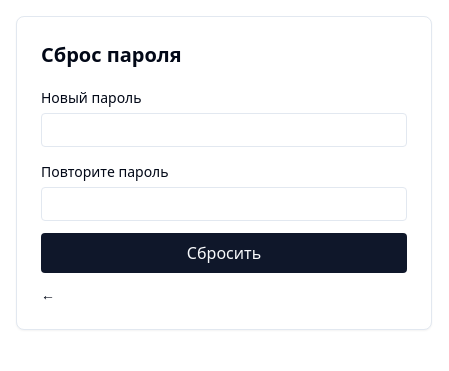
Test: ResetPasswordPage › shows mismatch error
The image size is (449, 371).
In the password field labelled "Новый пароль": (224, 130) [41,113,407,147], type "12345678"
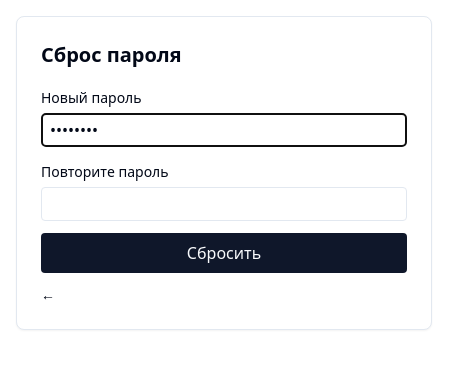
In the password field labelled "Повторите пароль": (224, 204) [41,187,407,221], type "87654321"
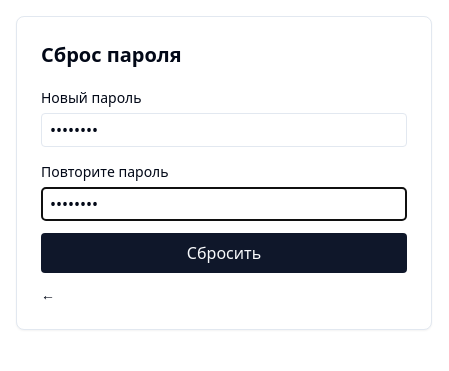
Click the button "Сбросить": (224, 253) [41,233,407,273]
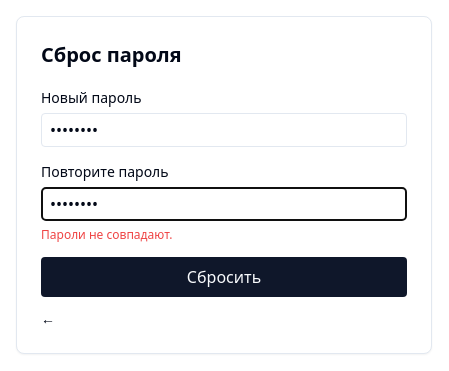
Now the text "Пароли не совпадают." is shown, box [41,226,172,243]
